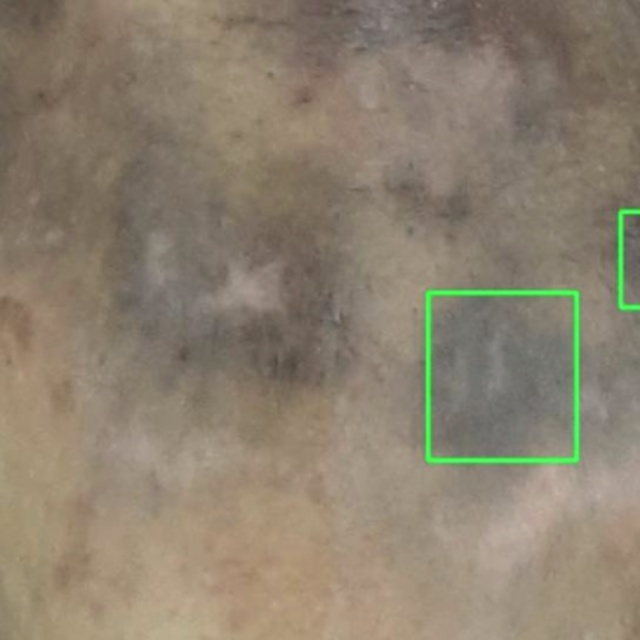Tinea Corporis: (428, 292, 576, 460)
